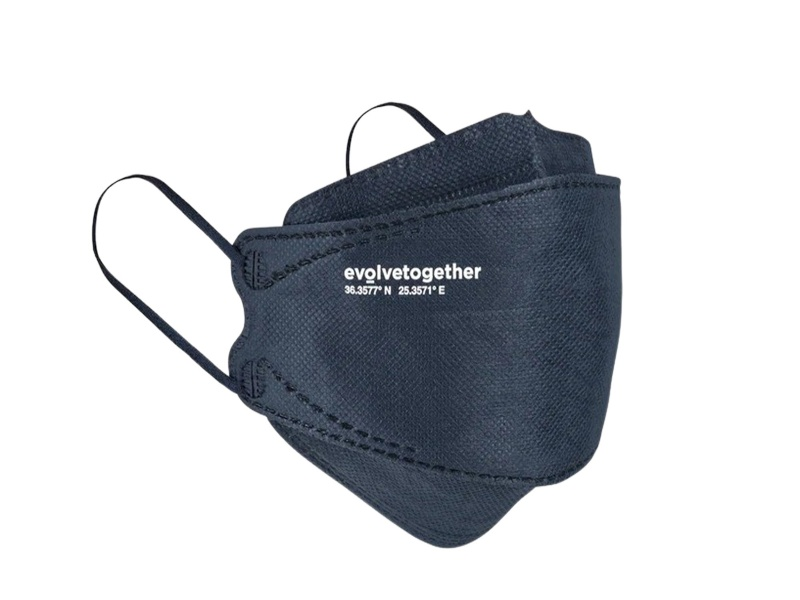mask: (227, 109, 624, 549)
